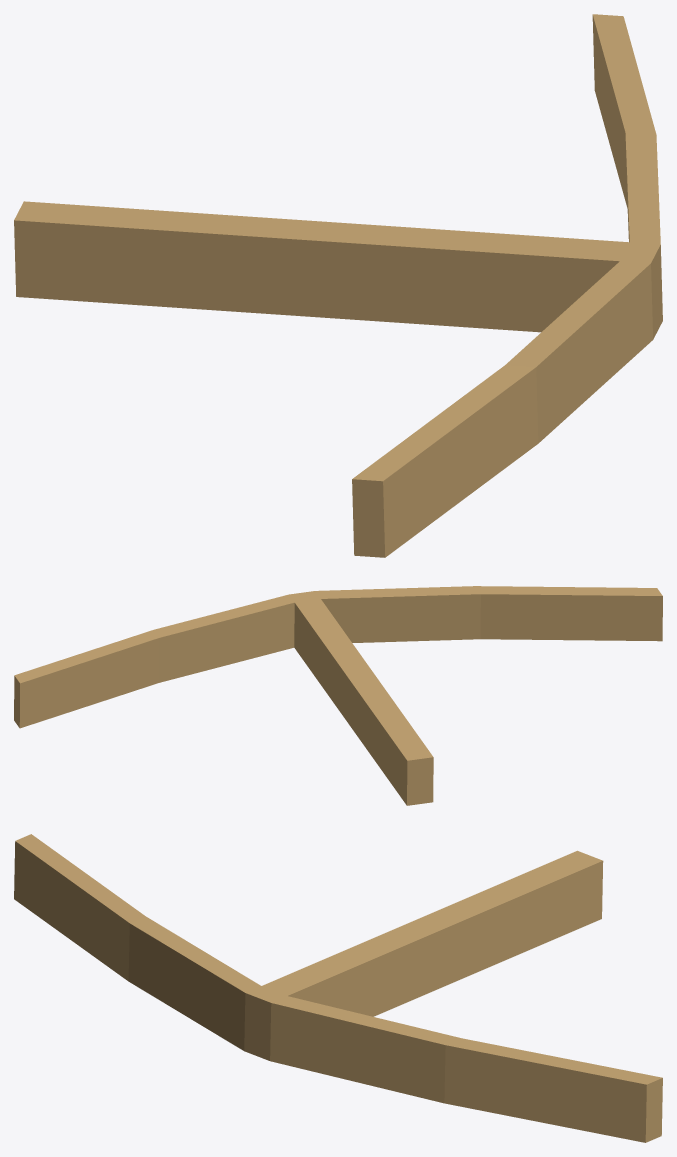
Rendered from unstrung_wooden_crossbow.glb.
3 renders of one model, top to bottom at view 1: azimuth 30°, elevation 25°; view 2: azimuth 150°, elevation 25°; view 3: azimuth 270°, elevation 25°, orthographic. The views are drawn at different scales.
Visible parts, largest first — view 1: unstrung_wooden_crossbow; view 2: unstrung_wooden_crossbow; view 3: unstrung_wooden_crossbow.
Part boxes in pixels (bbox=[...]): unstrung_wooden_crossbow: bbox=[14, 14, 662, 557]; unstrung_wooden_crossbow: bbox=[14, 586, 662, 805]; unstrung_wooden_crossbow: bbox=[14, 834, 662, 1142].
Size of the model in its own units: 0.1965 by 0.0254 by 0.2147.
